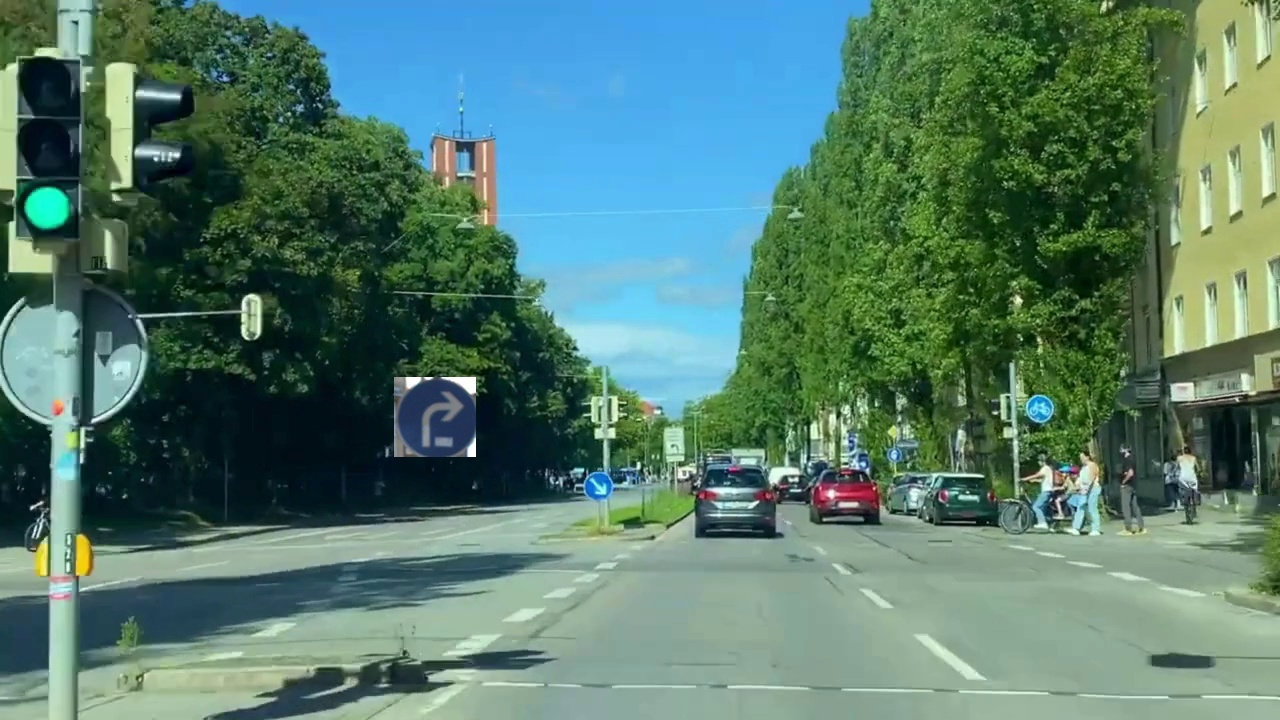Turn right: (394, 377, 476, 457)
